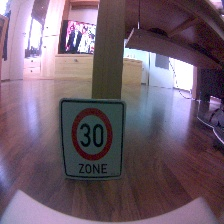dreisiger_zone: (58, 99, 124, 179)
